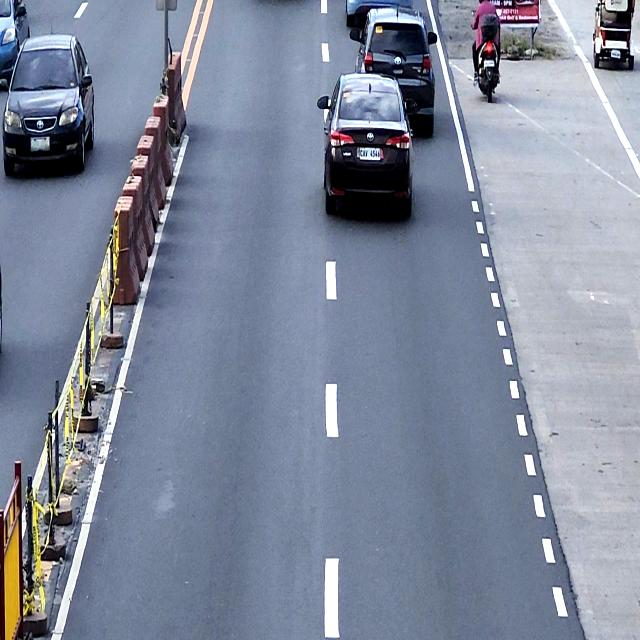Car: (317, 71, 413, 217), (2, 32, 95, 176), (350, 6, 437, 136), (0, 0, 30, 90)
E-bike: (592, 0, 636, 70)
License-Plate: (356, 144, 382, 161), (30, 136, 51, 152), (611, 49, 621, 60), (484, 59, 494, 67)
Motorcycle: (472, 31, 501, 102)
